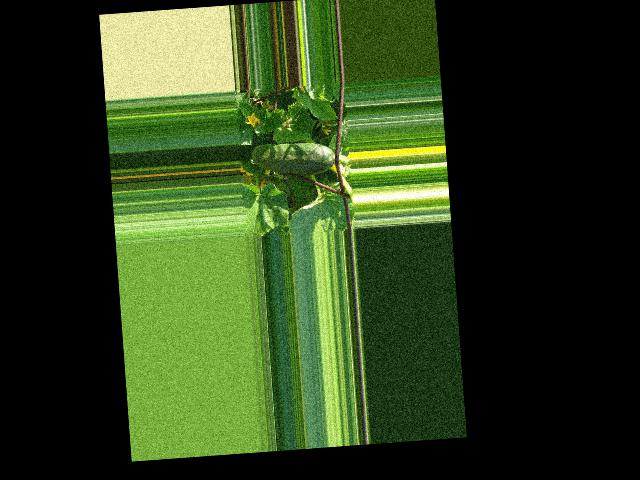cucumber: (250, 139, 335, 180)
